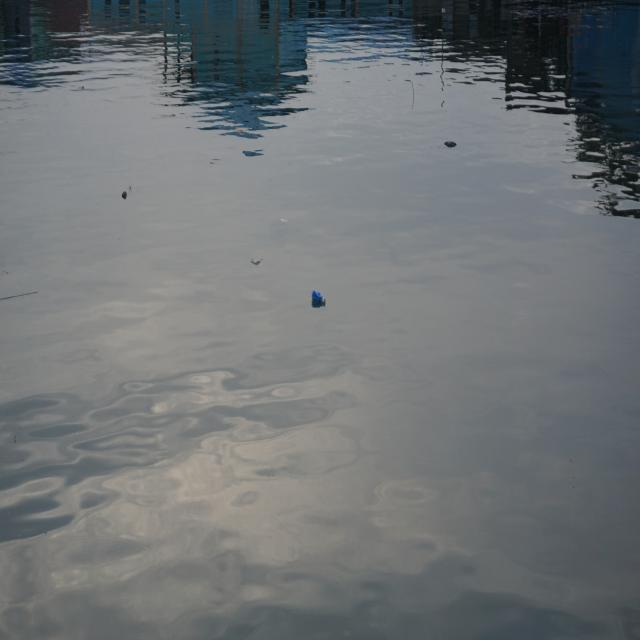Botol Plastik: (311, 285, 328, 314)
